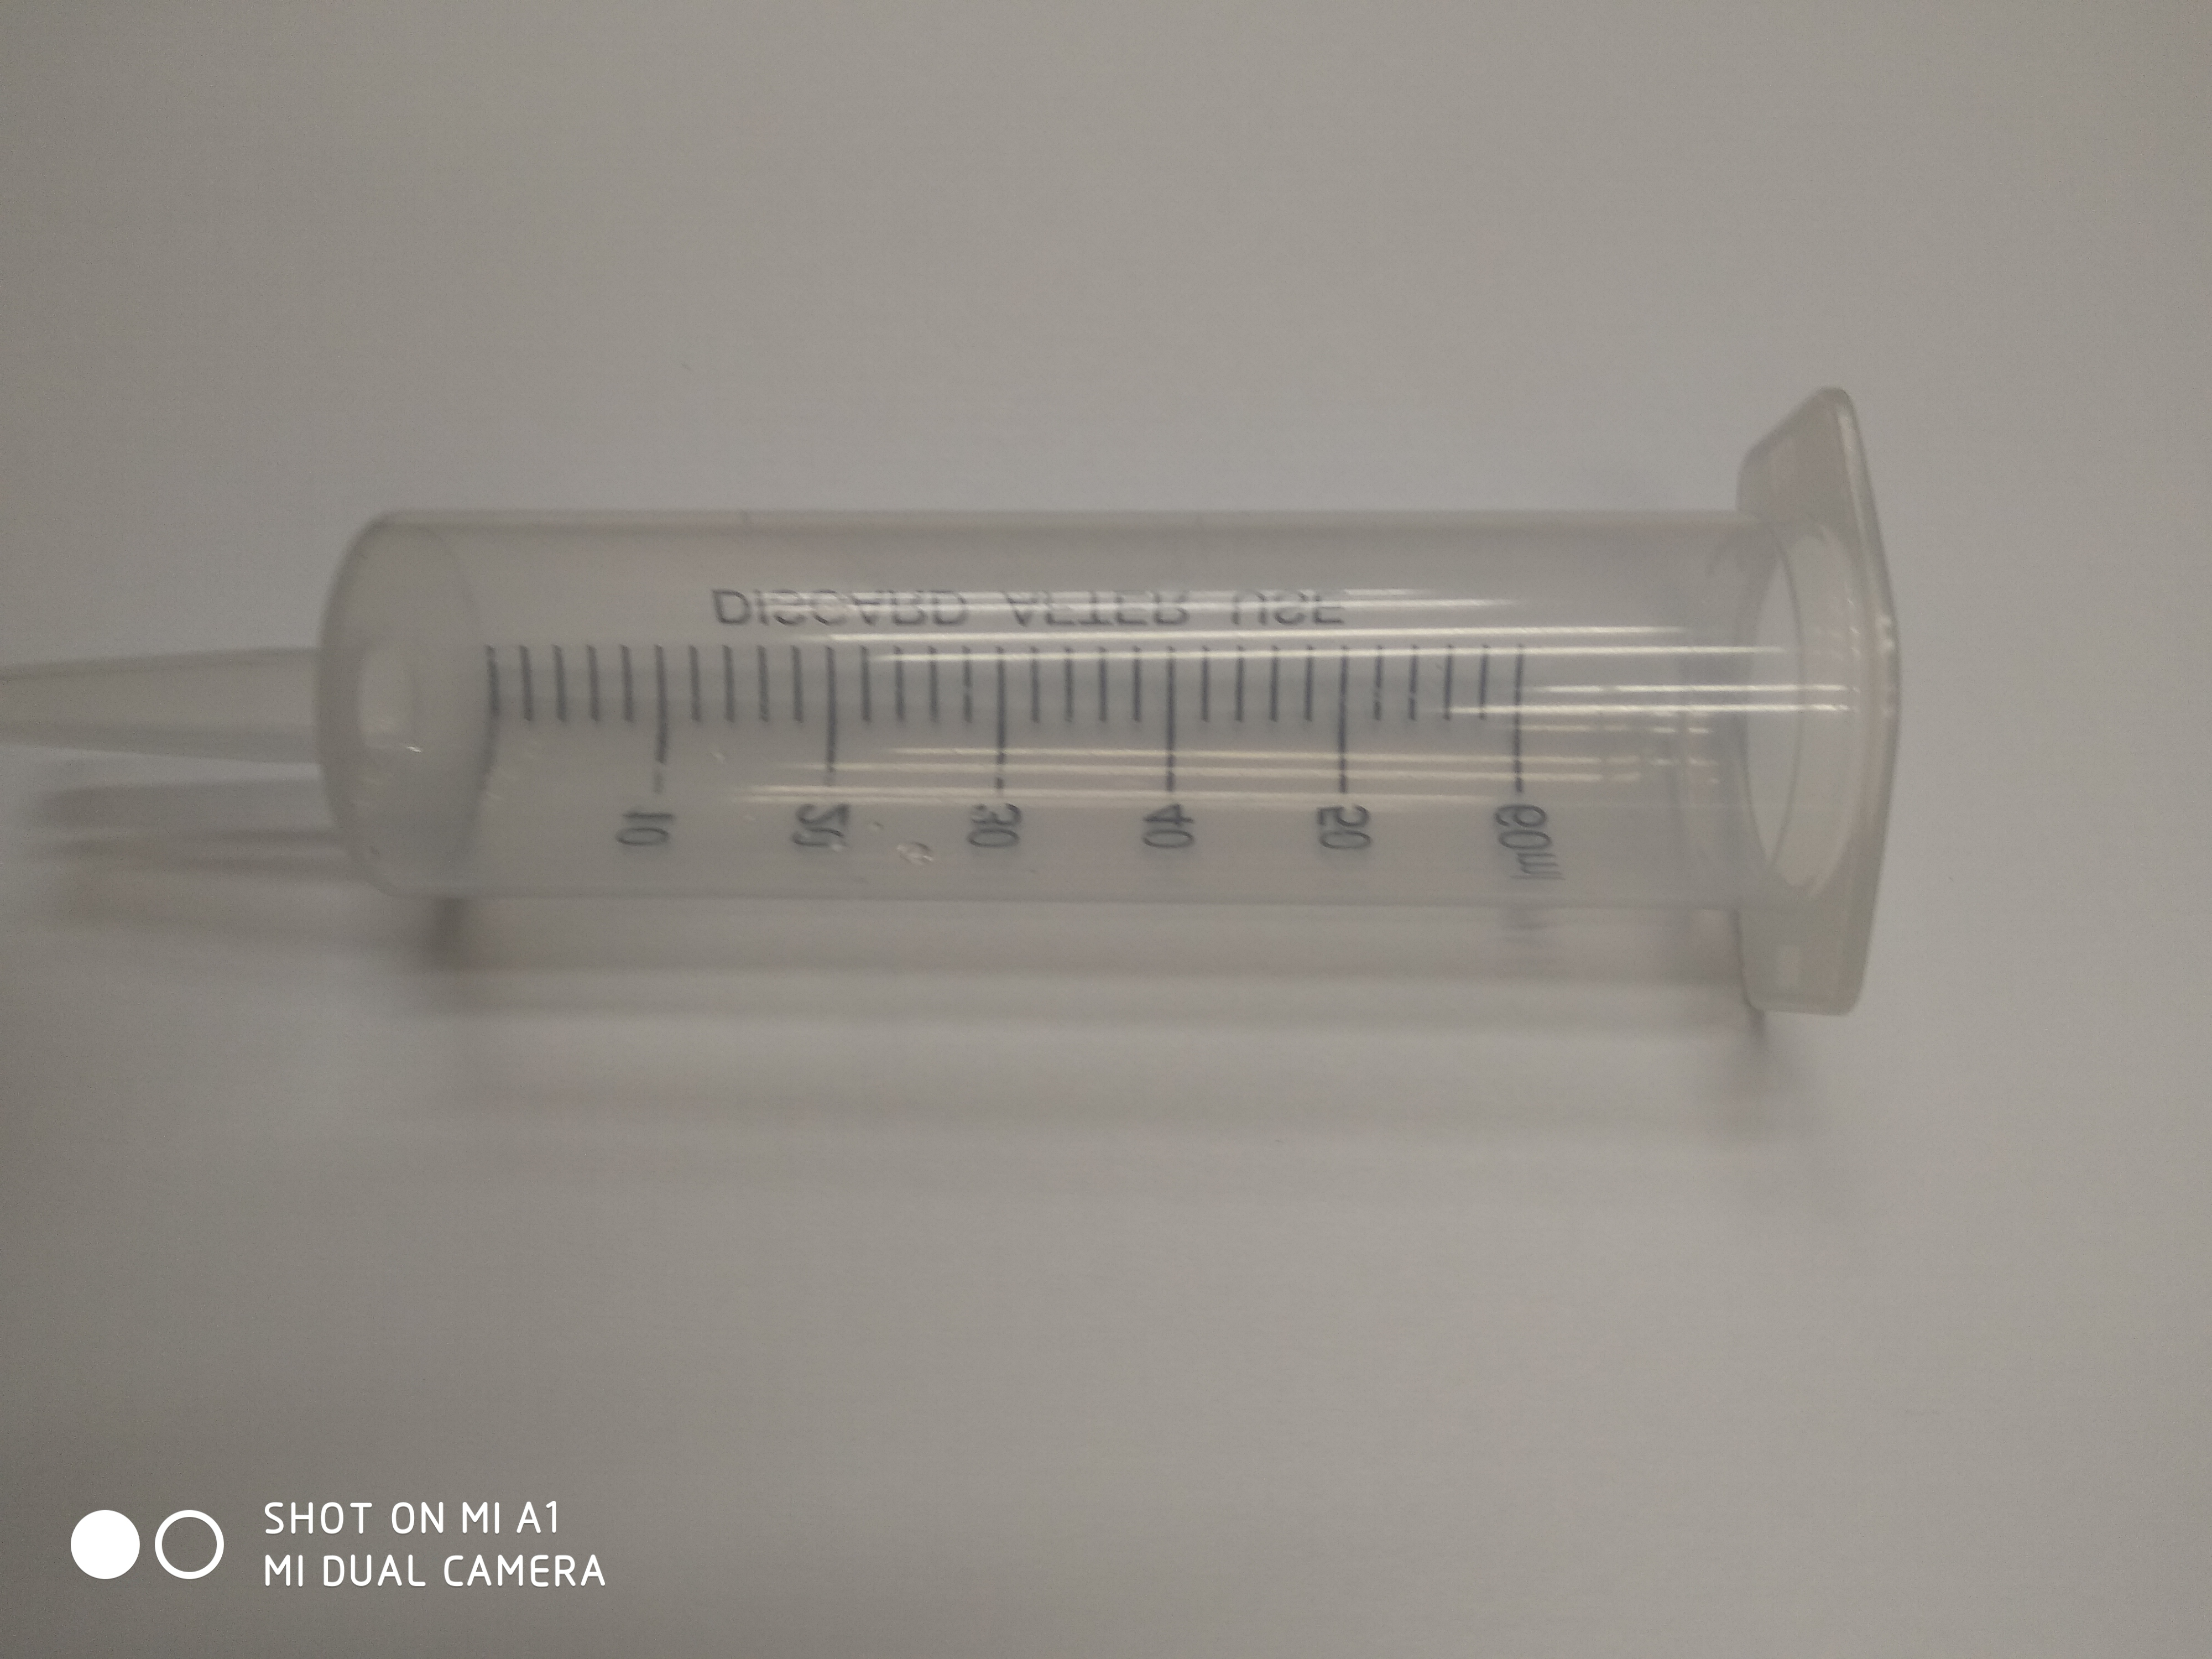syringe: (2, 382, 1916, 1021)
